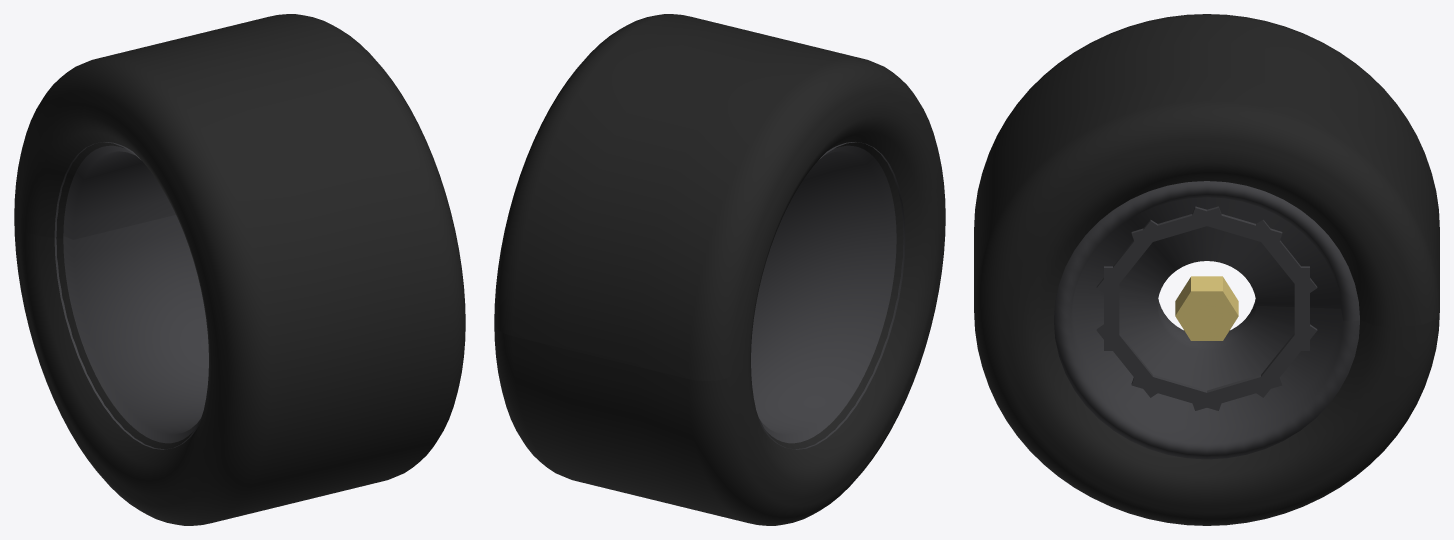
Rendered from wheel_rear.glb.
The picture shows the model from 3 angles, left to right: view 1: azimuth 30°, elevation 25°; view 2: azimuth 150°, elevation 25°; view 3: azimuth 270°, elevation 25°; orthographic projection. The views are drawn at different scales.
Visible parts, largest first — view 1: RearTire, RearRim; view 2: RearTire, RearRim; view 3: RearTire, RearRim.
Part boxes in pixels (x1=…): RearTire: x1=14, y1=14, x2=465, y2=525; RearRim: x1=54, y1=142, x2=208, y2=449; RearTire: x1=494, y1=14, x2=945, y2=525; RearRim: x1=751, y1=142, x2=905, y2=449; RearTire: x1=974, y1=14, x2=1439, y2=525; RearRim: x1=1054, y1=181, x2=1359, y2=459.
Bounding box in the file's own units: 0.392 × 0.66 × 0.66.
